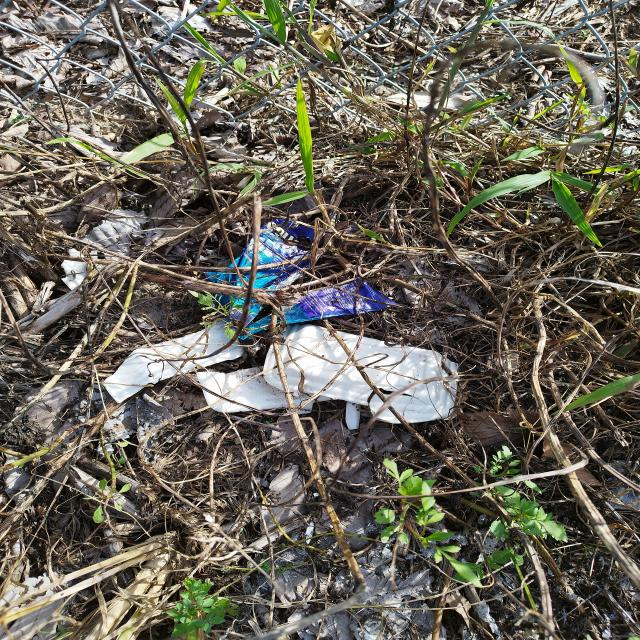foam box: (266, 326, 458, 424)
snack package: (204, 216, 386, 340)
